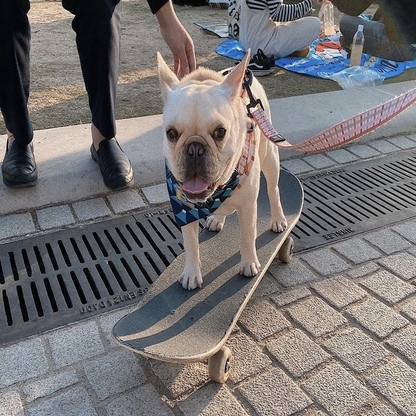bulldog: (151, 50, 293, 294)
